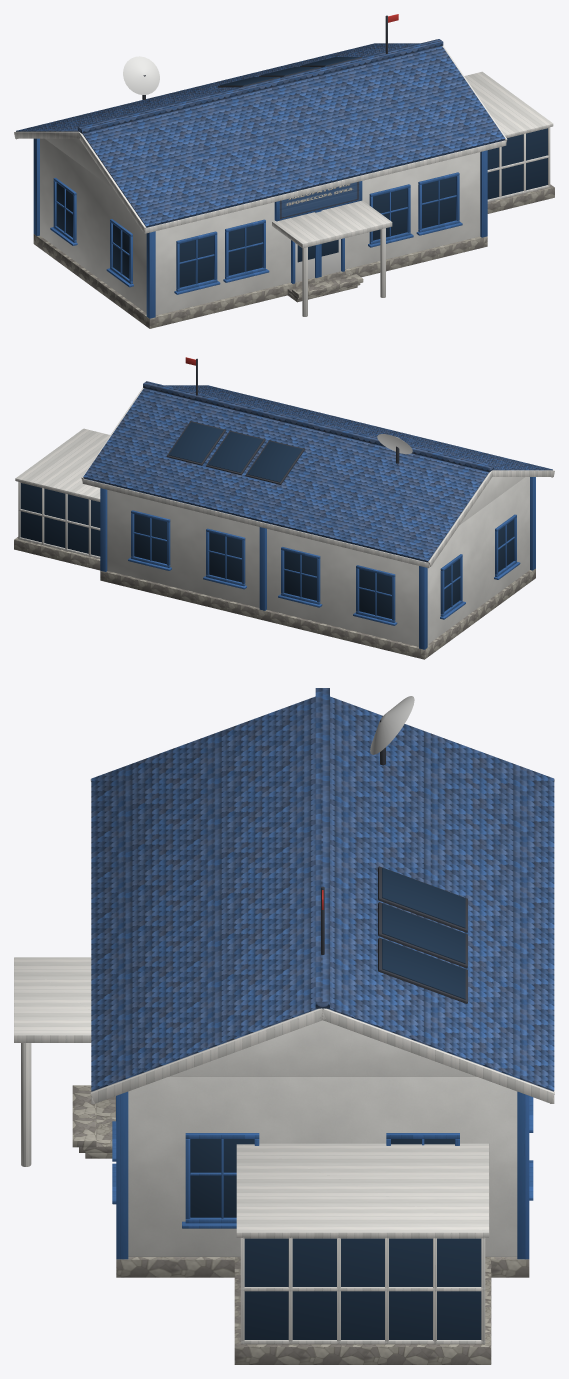
Rendered from oak_lab.glb.
3 renders of one model, top to bottom at view 1: azimuth 30°, elevation 25°; view 2: azimuth 150°, elevation 25°; view 3: azimuth 270°, elevation 25°, orthographic. The views are drawn at different scales.
Parts seen in each view (by area): view 1: oak_lab; view 2: oak_lab; view 3: oak_lab.
Boxes of the visible parts, x1,y1,x2,y2 form: oak_lab: (14, 14, 554, 328); oak_lab: (14, 357, 554, 659); oak_lab: (14, 688, 554, 1364).
Bounding box in the file's own units: 23.09 × 9.76 × 13.49.
10 materials, 10 textured.
